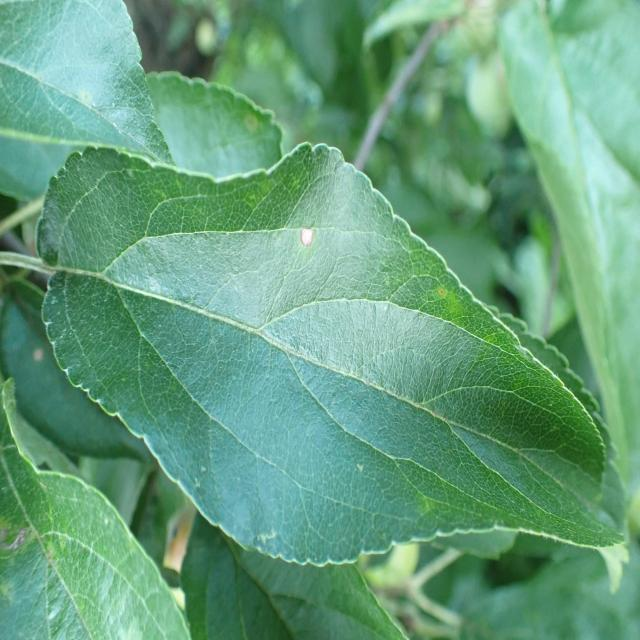Black Rot: (278, 206, 326, 270)
